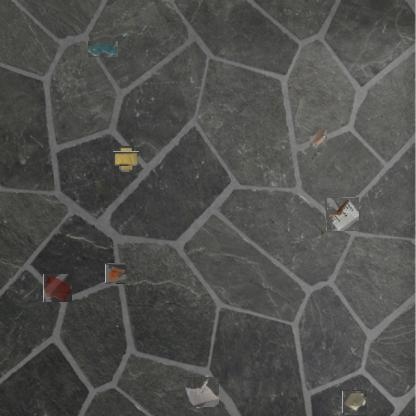dirty: (326, 197, 360, 231), (184, 376, 218, 408), (343, 391, 367, 414), (105, 263, 126, 284), (116, 149, 137, 169), (309, 127, 327, 149)
liquid: (44, 274, 72, 303), (88, 41, 118, 57)
